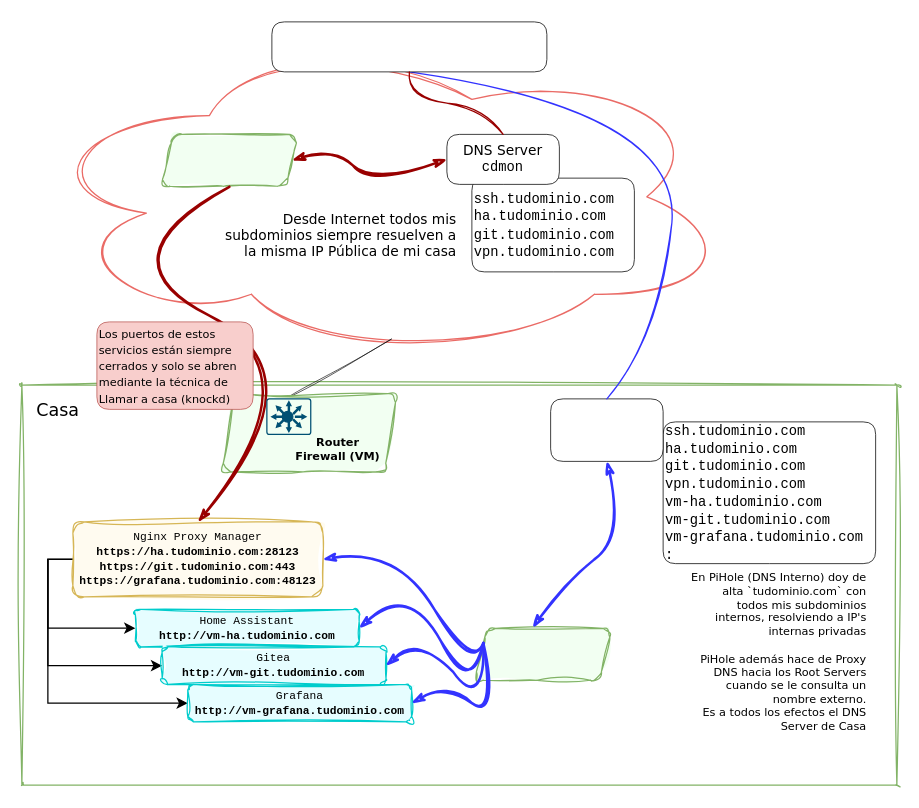
The diagram is 919 pixels wide and 808 high, and some of its shapes have lost their labels. The shapes that lost their labels are listed below. From the top down, each one's box as (x1, y1, x2, y2) in pixels, then its label:
(271, 21, 547, 72): Servidores Root DNS
(160, 133, 298, 186): Cliente desde Internet
(550, 398, 663, 461): DNS Server INTERNO PiHole
(473, 627, 612, 680): Cliente desde Intranet
